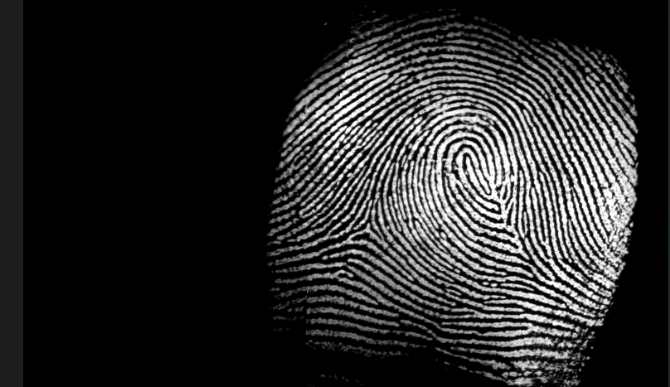nucelo: (448, 145, 489, 194)
verticilo: (351, 216, 384, 244), (512, 243, 537, 267)
